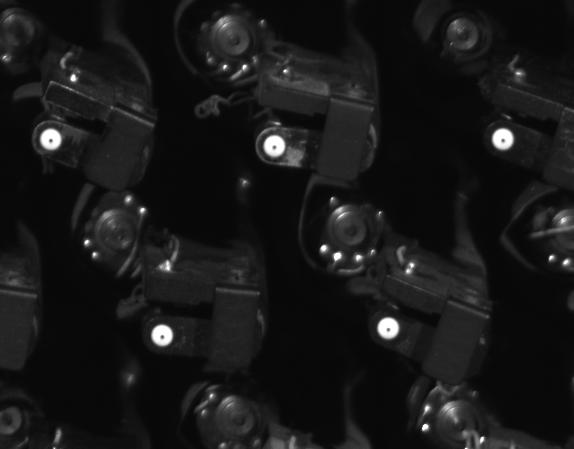fiber: (145, 318, 181, 352), (372, 313, 408, 345), (261, 131, 292, 163), (488, 126, 521, 154), (37, 126, 67, 154)
